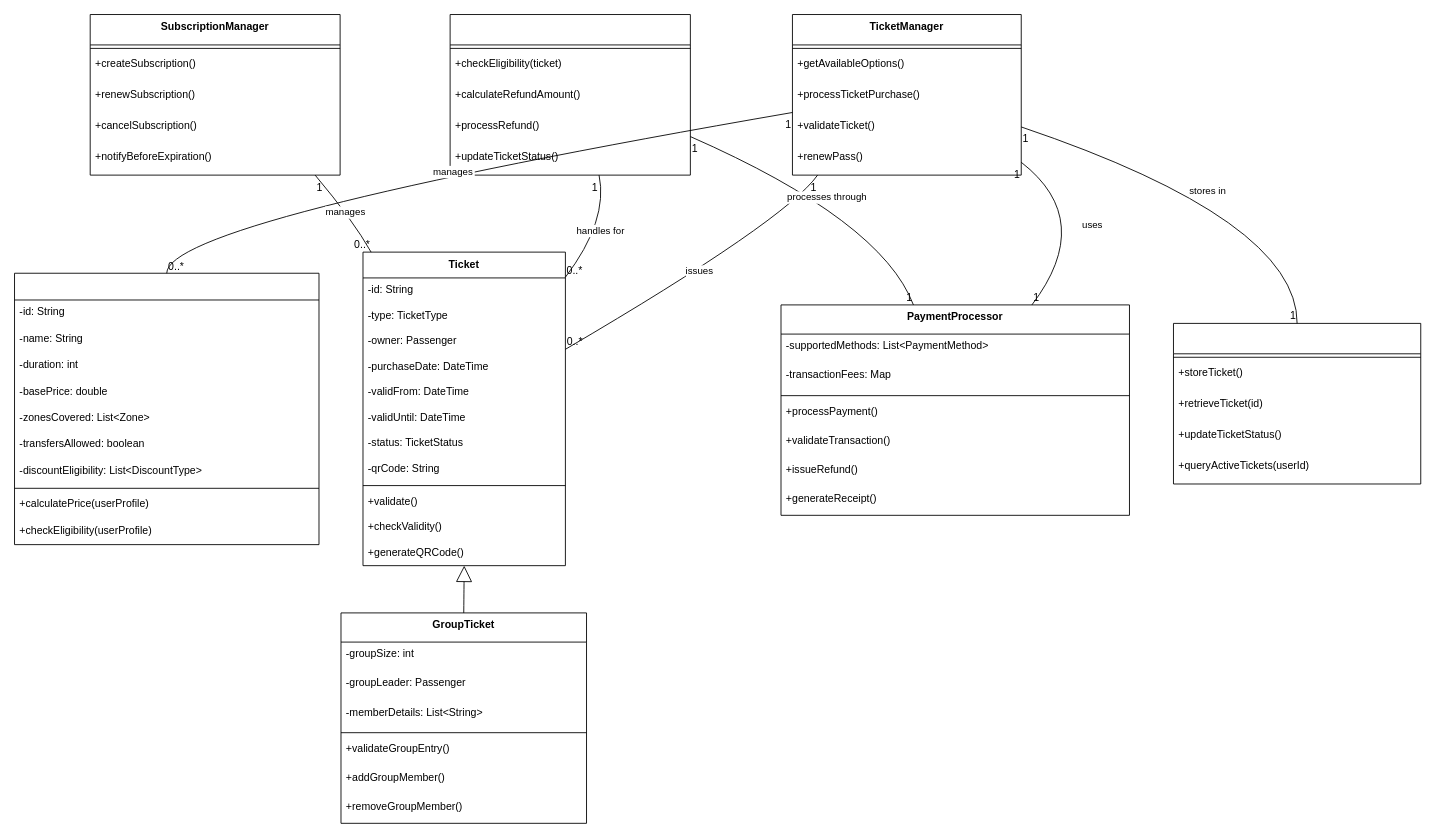
Image size: 1435x838. Some labels were removed from this diagram. Each missing label, with the box of its shape:
RefundManager: (449, 14, 690, 175)
TicketDatabase: (1173, 323, 1421, 484)
TicketType: (14, 272, 319, 545)
